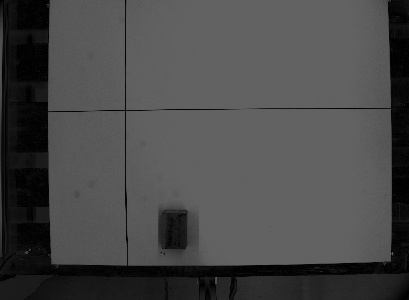b1: (157, 207, 190, 250)
